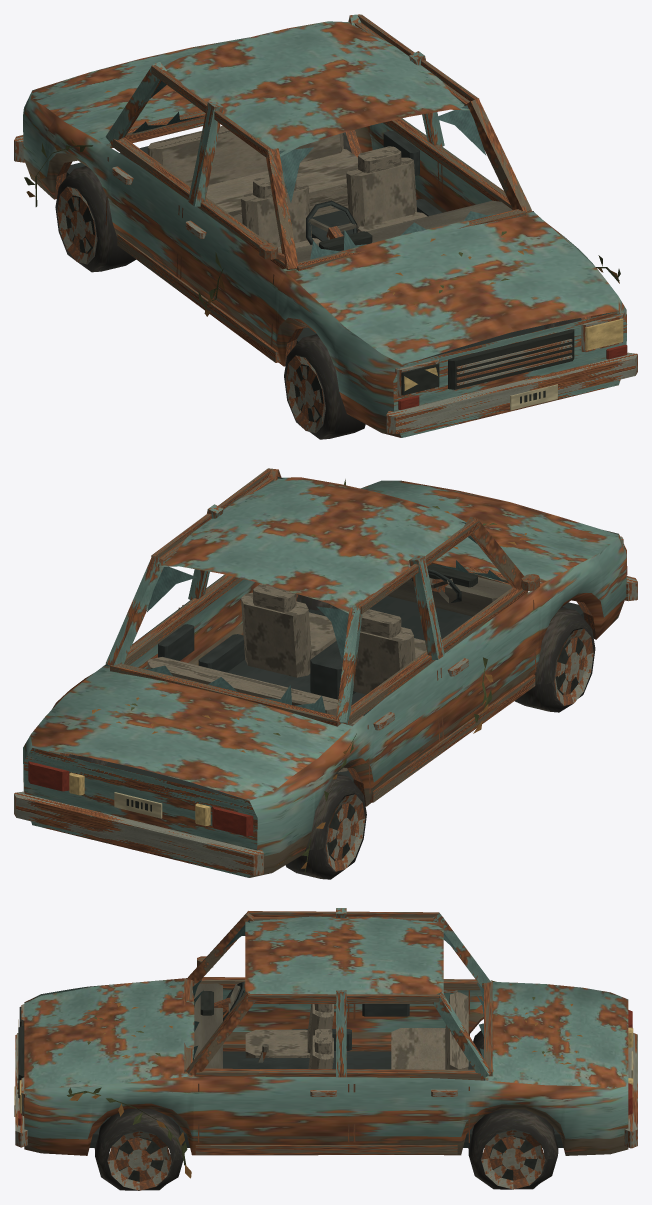
The model's file is car-wreck-1.glb.
3 renders of one model, top to bottom at view 1: azimuth 30°, elevation 25°; view 2: azimuth 150°, elevation 25°; view 3: azimuth 270°, elevation 25°, orthographic. The views are drawn at different scales.
Visible parts, largest first — view 1: Car Wreck 01; view 2: Car Wreck 01; view 3: Car Wreck 01.
Part boxes in pixels (x1,y1,x2,y2): Car Wreck 01: (14, 14, 637, 439); Car Wreck 01: (14, 468, 637, 879); Car Wreck 01: (14, 908, 637, 1190).
Size of the model in its own units: 1.8 by 1.4 by 4.2.
Materials: 1 (1 with a texture image).
